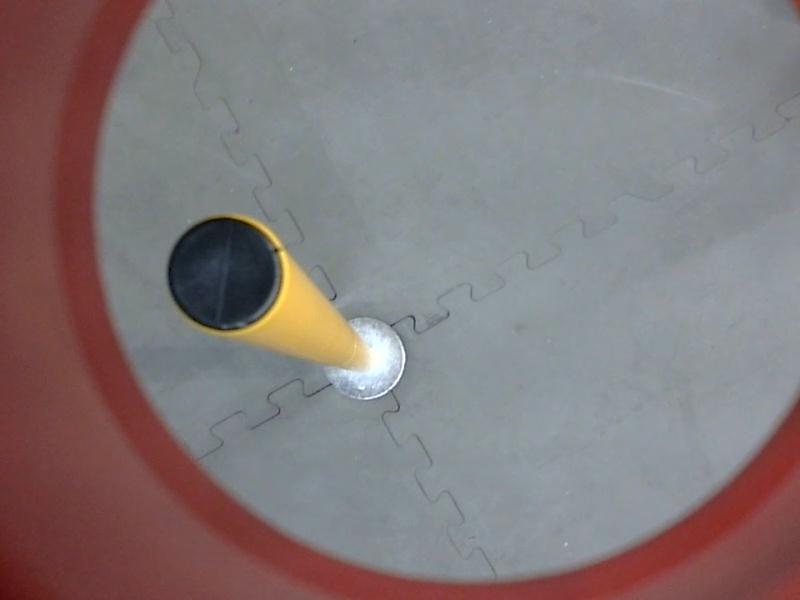tip: (162, 209, 298, 347)
